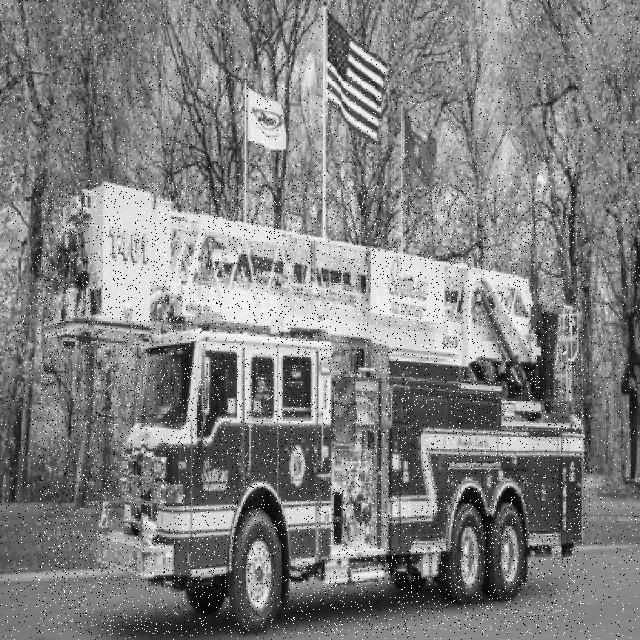Fire Truck: (38, 183, 586, 635)
